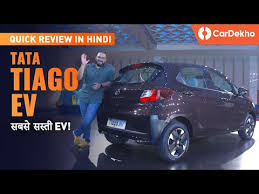Tiago: (117, 61, 256, 162)
